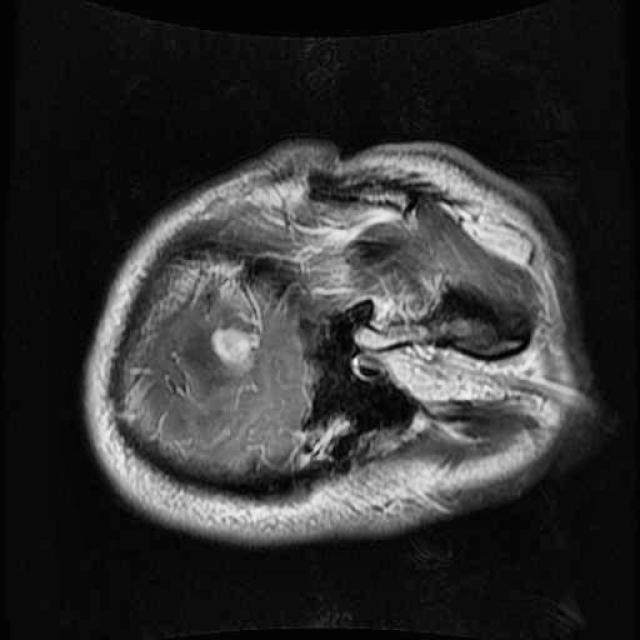Tumor: (207, 318, 265, 382)
